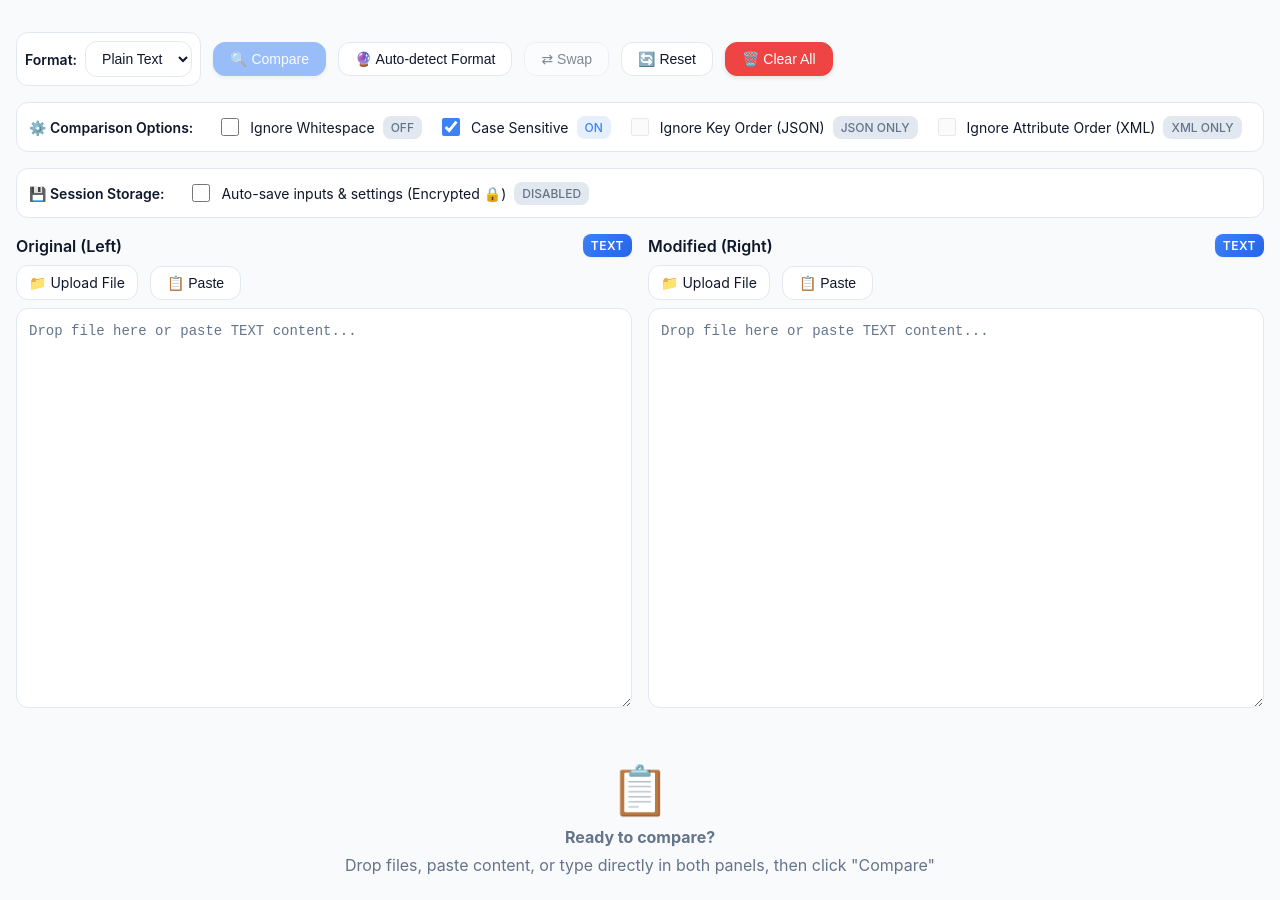
Test: DiffChecker Component › Compare Functionality › should show statistics after comparison
Type "Line 1" into the text box with placeholder "Drop file here or paste TEXT content..." below "Original (Left)" at (324, 508), box [16,308,632,708]
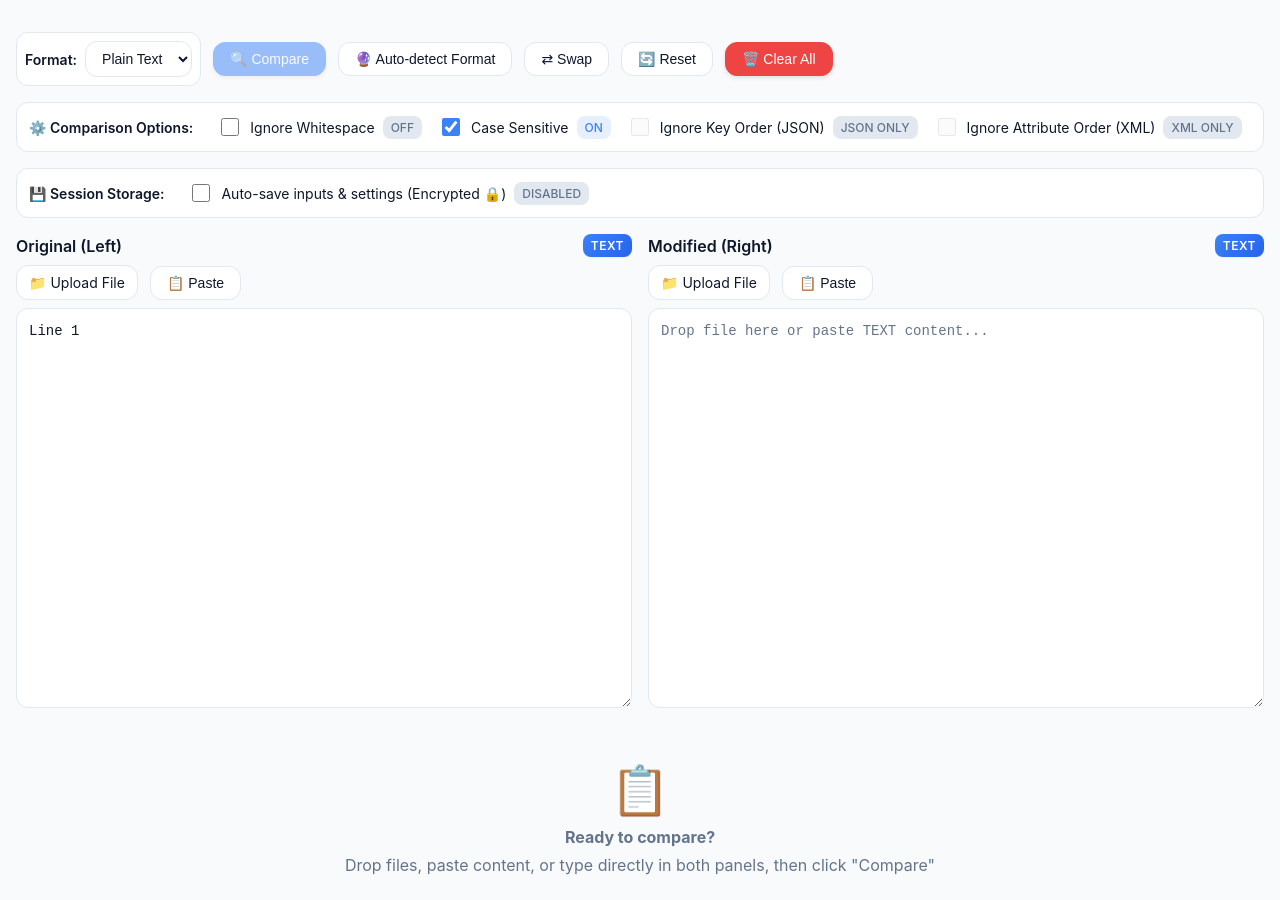
Type "Line 2" into the text box with placeholder "Drop file here or paste TEXT content..." at (956, 508), box [648,308,1264,708]
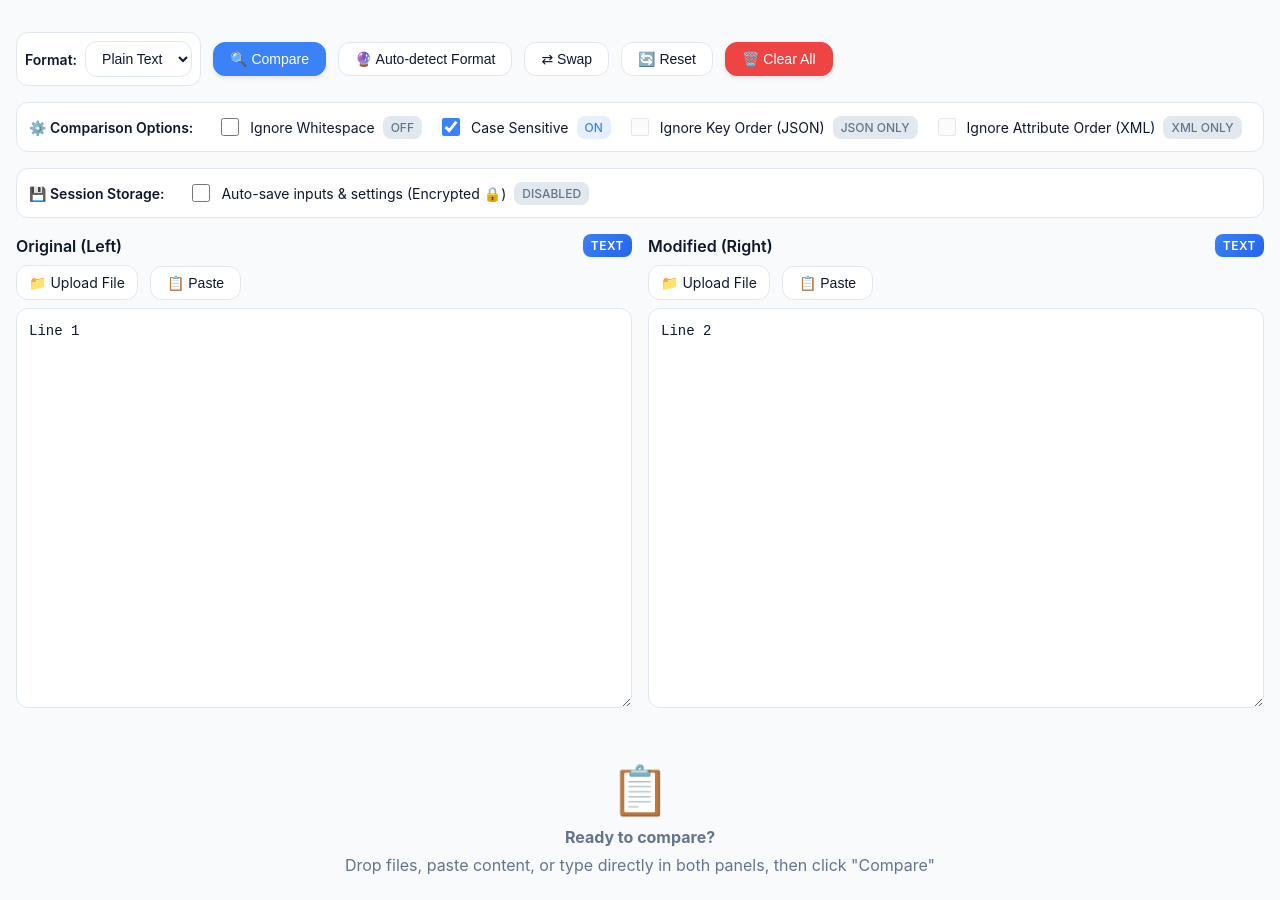
Click the button "🔍 Compare" at (270, 59), box [213,42,326,76]
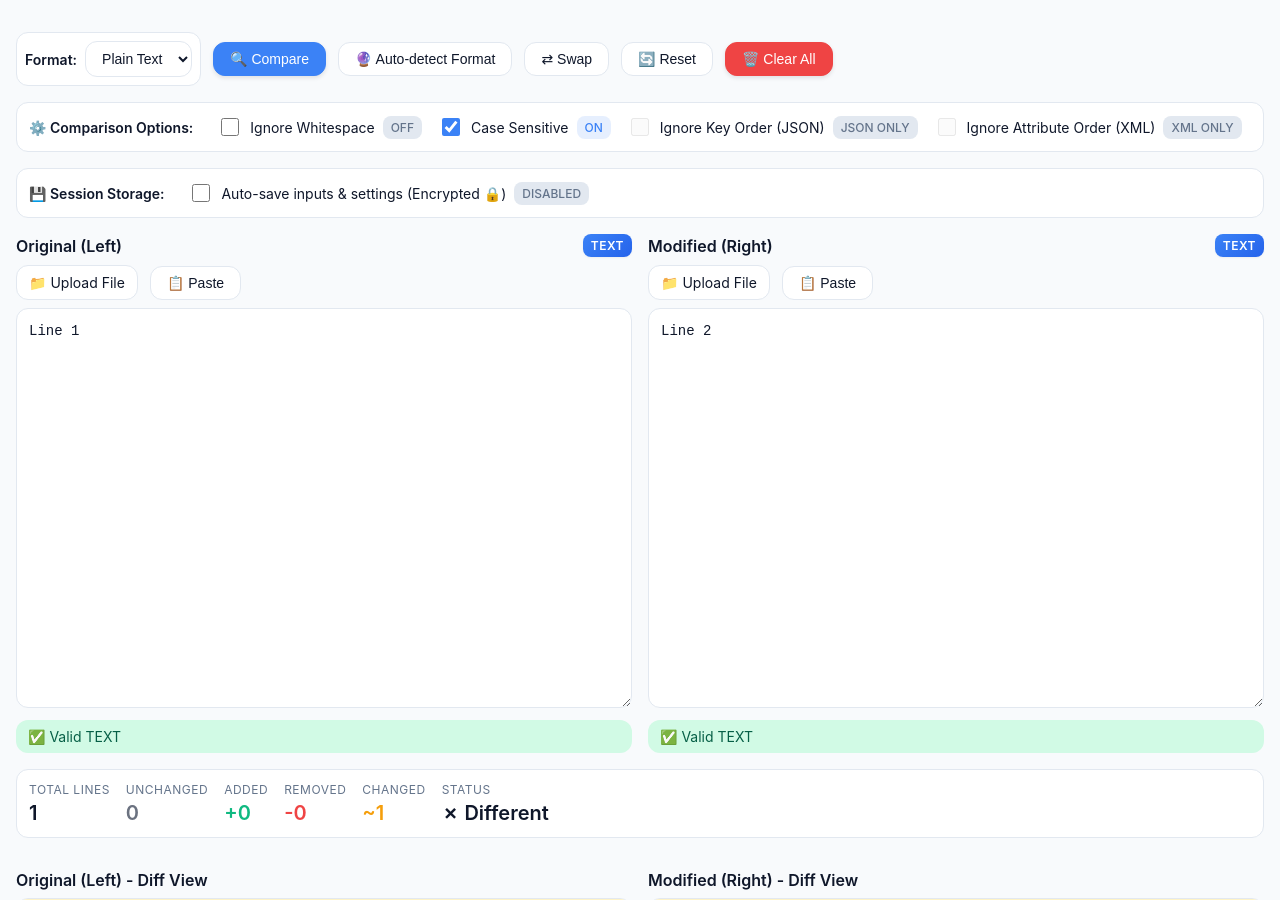
Now the text "Total Lines" is shown, box [29,782,110,797]
Now the text "Added" is shown, box [224,782,268,797]
Now the text "Removed" is shown, box [284,782,346,797]
